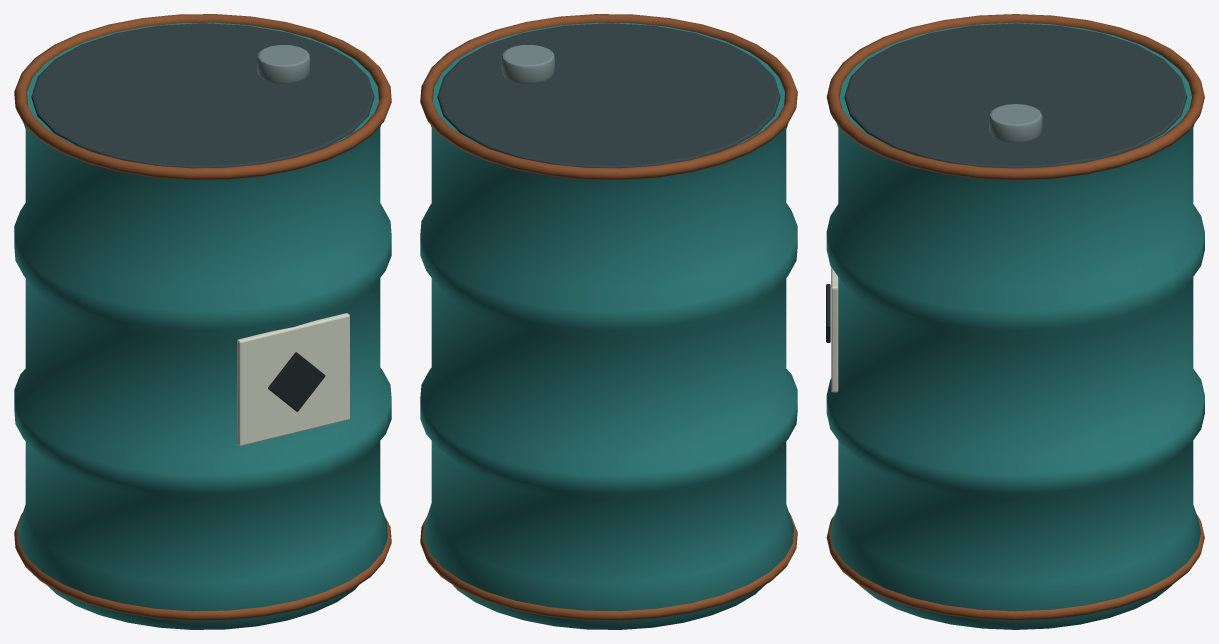
Rendered from SM_Drum_Water.fbx.
3 views of the same model, side by side, from view 1: azimuth 30°, elevation 25°; view 2: azimuth 150°, elevation 25°; view 3: azimuth 270°, elevation 25° (orthographic).
Parts seen in each view (by area): view 1: SM_Drum_Water; view 2: SM_Drum_Water; view 3: SM_Drum_Water.
Part boxes in pixels (<box>): SM_Drum_Water: <box>14,14,391,629</box>; SM_Drum_Water: <box>420,14,797,629</box>; SM_Drum_Water: <box>826,14,1204,629</box>.
Size of what is drawn, in the model's own units: 0.65 by 0.651 by 0.9175.
